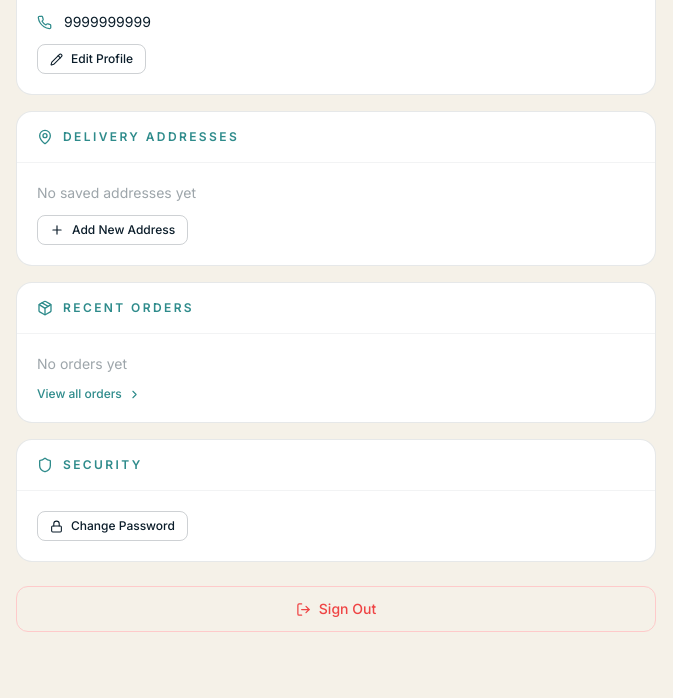
Scenario: ProfilePage › validates password change fields
(page scrolled)
Click the button "Change Password".
click(112, 526)  # box [37,511,188,541]
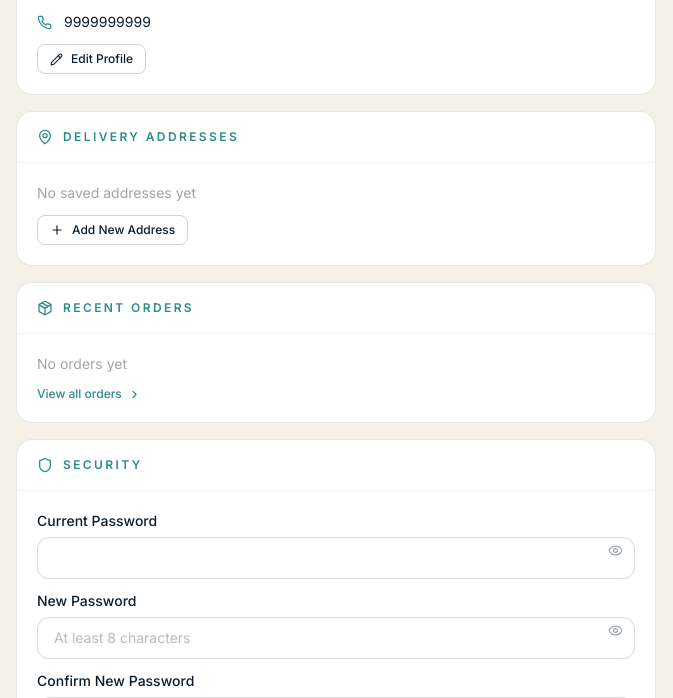
Type "newpassword" into the password field labelled "New Password".
click(336, 638); type("newpassword")  # box [37,617,635,659]
(page scrolled)
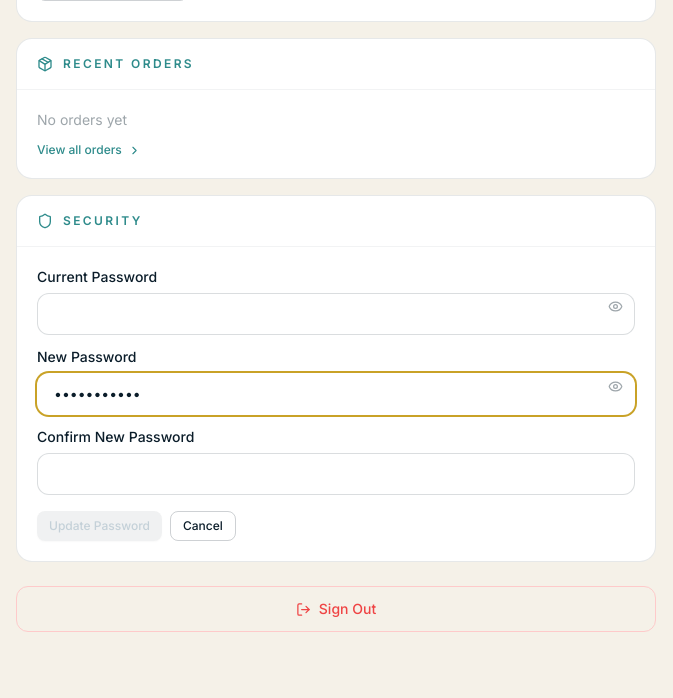
Type "different" into the password field labelled "Confirm New Password".
click(336, 474); type("different")  # box [37,453,635,495]
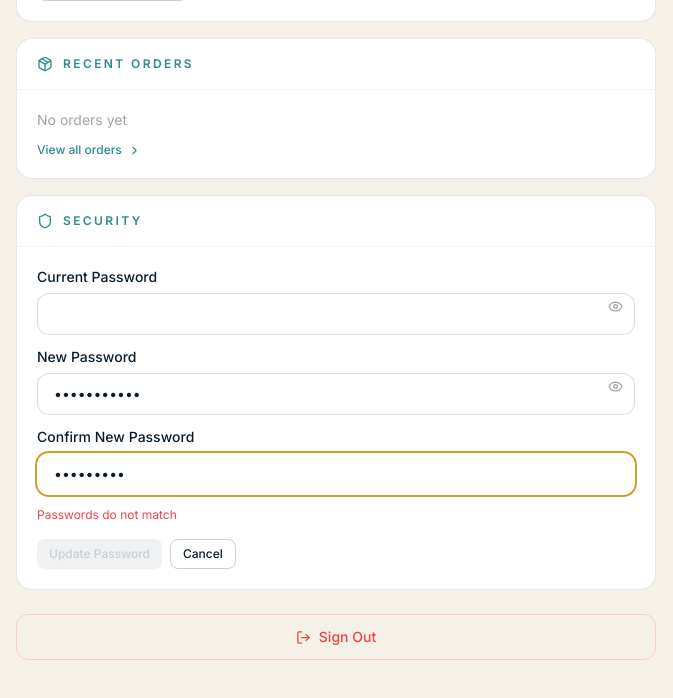
Check: the button "Update Password" is disabled, box [37,539,162,569]
Check: the text "Passwords do not match" is shown, box [37,507,177,522]
